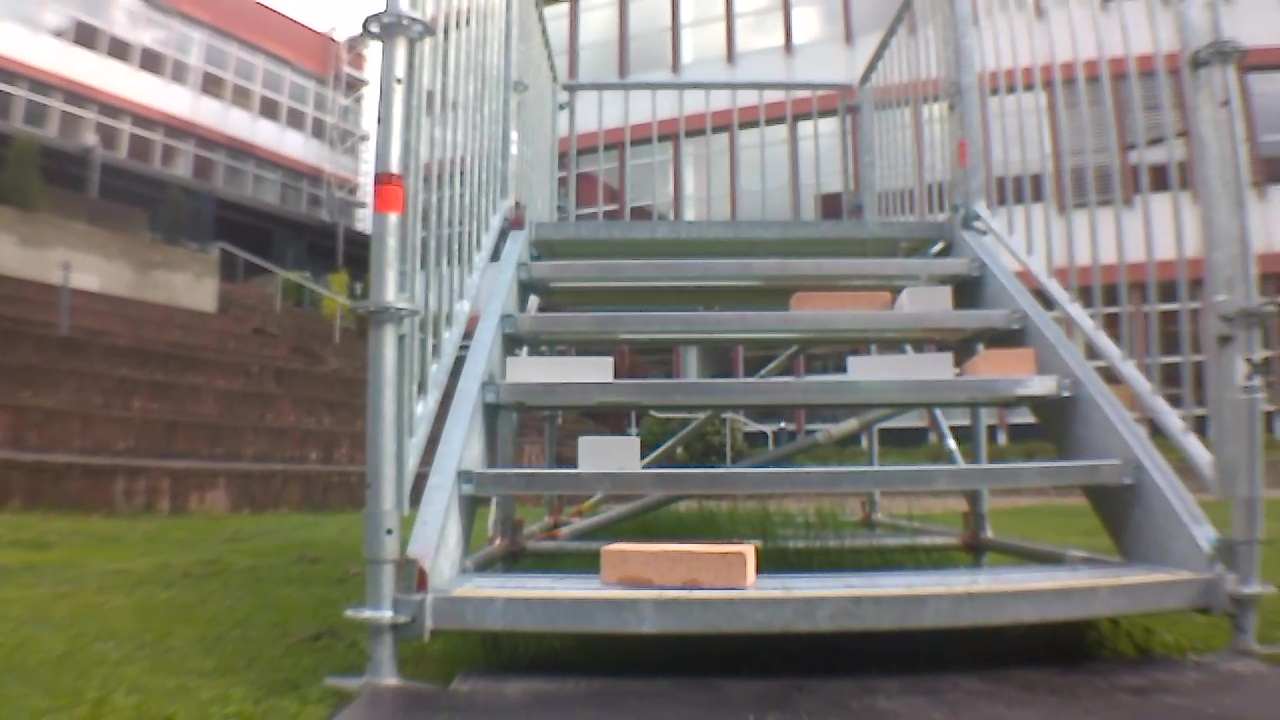brick: (601, 542, 754, 587), (847, 354, 951, 379), (506, 357, 612, 381), (580, 437, 639, 470), (791, 292, 890, 311), (966, 349, 1035, 376), (898, 287, 951, 309)
edge: (437, 578, 1214, 633), (460, 460, 1142, 492), (483, 374, 1077, 403), (503, 310, 1028, 329), (518, 258, 983, 276), (533, 219, 952, 238)
stairs: (358, 2, 1266, 682)
steps: (431, 216, 1234, 641)
